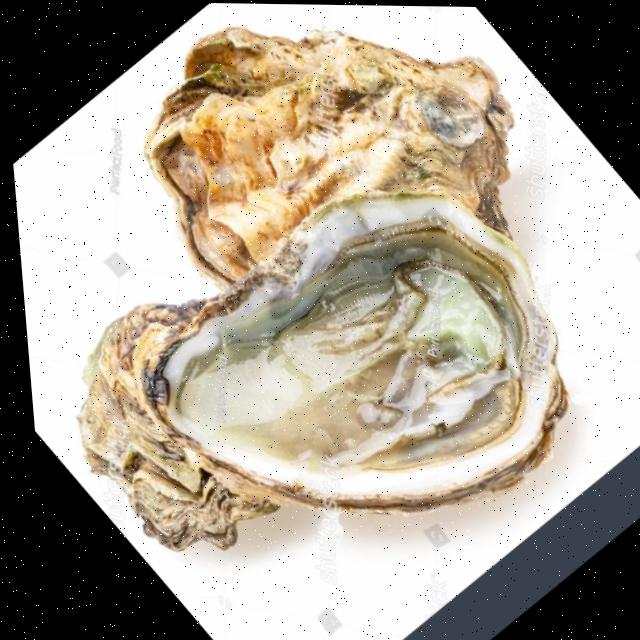Oyster-Closed: (76, 300, 334, 553)
Oyster-Indeterminate: (143, 26, 517, 285)
Oyster-Open: (144, 193, 570, 516)
